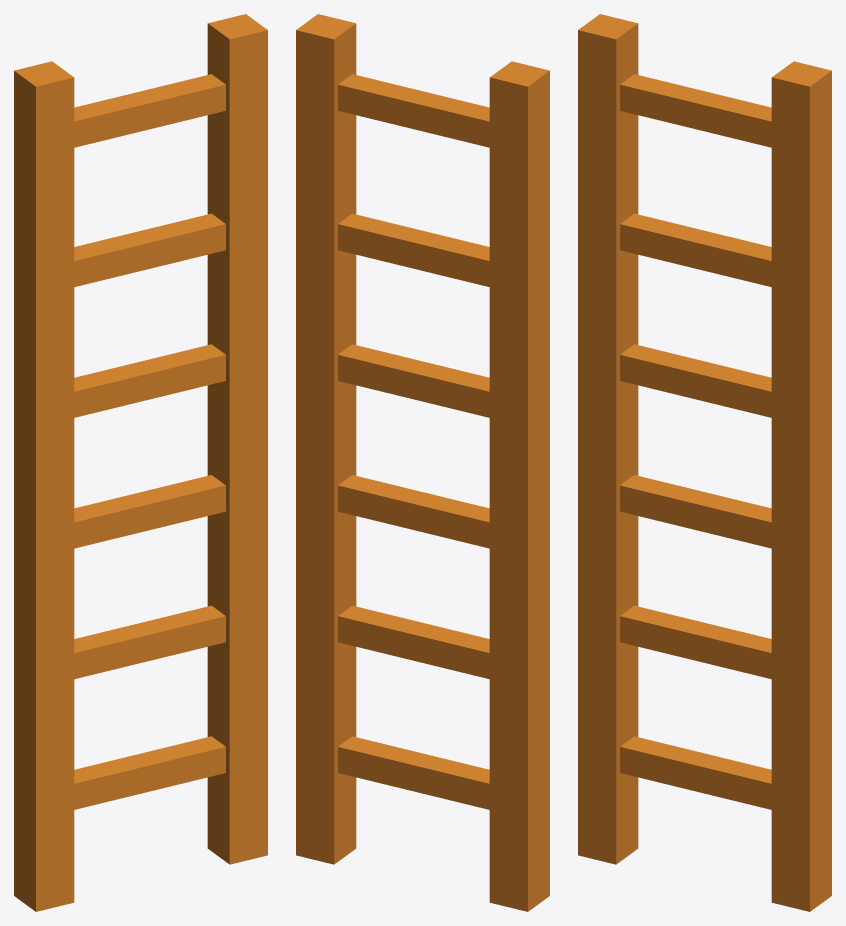
Rendered from ladder.fbx.
3 views of the same model, side by side, from view 1: azimuth 30°, elevation 25°; view 2: azimuth 150°, elevation 25°; view 3: azimuth 330°, elevation 25° (orthographic).
Visible parts, largest first — view 1: Cube.016, Cube.017, Cube.021, Cube.018, Cube.022, Cube.023, Cube.019, Cube.020; view 2: Cube.016, Cube.017, Cube.021, Cube.018, Cube.022, Cube.023, Cube.019, Cube.020; view 3: Cube.017, Cube.016, Cube.021, Cube.018, Cube.022, Cube.023, Cube.019, Cube.020.
Boxes of the visible parts, box(x1,y1,x2,y2) form: Cube.016: box(14, 61, 74, 911); Cube.017: box(207, 14, 267, 864); Cube.021: box(74, 344, 225, 417); Cube.018: box(74, 736, 225, 809); Cube.022: box(74, 213, 225, 286); Cube.023: box(74, 74, 225, 147); Cube.019: box(74, 605, 225, 679); Cube.020: box(74, 475, 225, 548); Cube.016: box(489, 61, 549, 911); Cube.017: box(296, 14, 356, 864); Cube.021: box(338, 344, 489, 417); Cube.018: box(338, 736, 489, 809); Cube.022: box(338, 213, 489, 286); Cube.023: box(338, 74, 489, 147); Cube.019: box(338, 605, 489, 679); Cube.020: box(338, 475, 489, 548); Cube.017: box(771, 61, 831, 911); Cube.016: box(578, 14, 638, 864); Cube.021: box(620, 344, 771, 417); Cube.018: box(620, 736, 771, 809); Cube.022: box(620, 213, 771, 286); Cube.023: box(620, 74, 771, 147); Cube.019: box(620, 605, 771, 679); Cube.020: box(620, 475, 771, 548).
Size of the model in its own units: 92.88 by 316 by 15.28.
